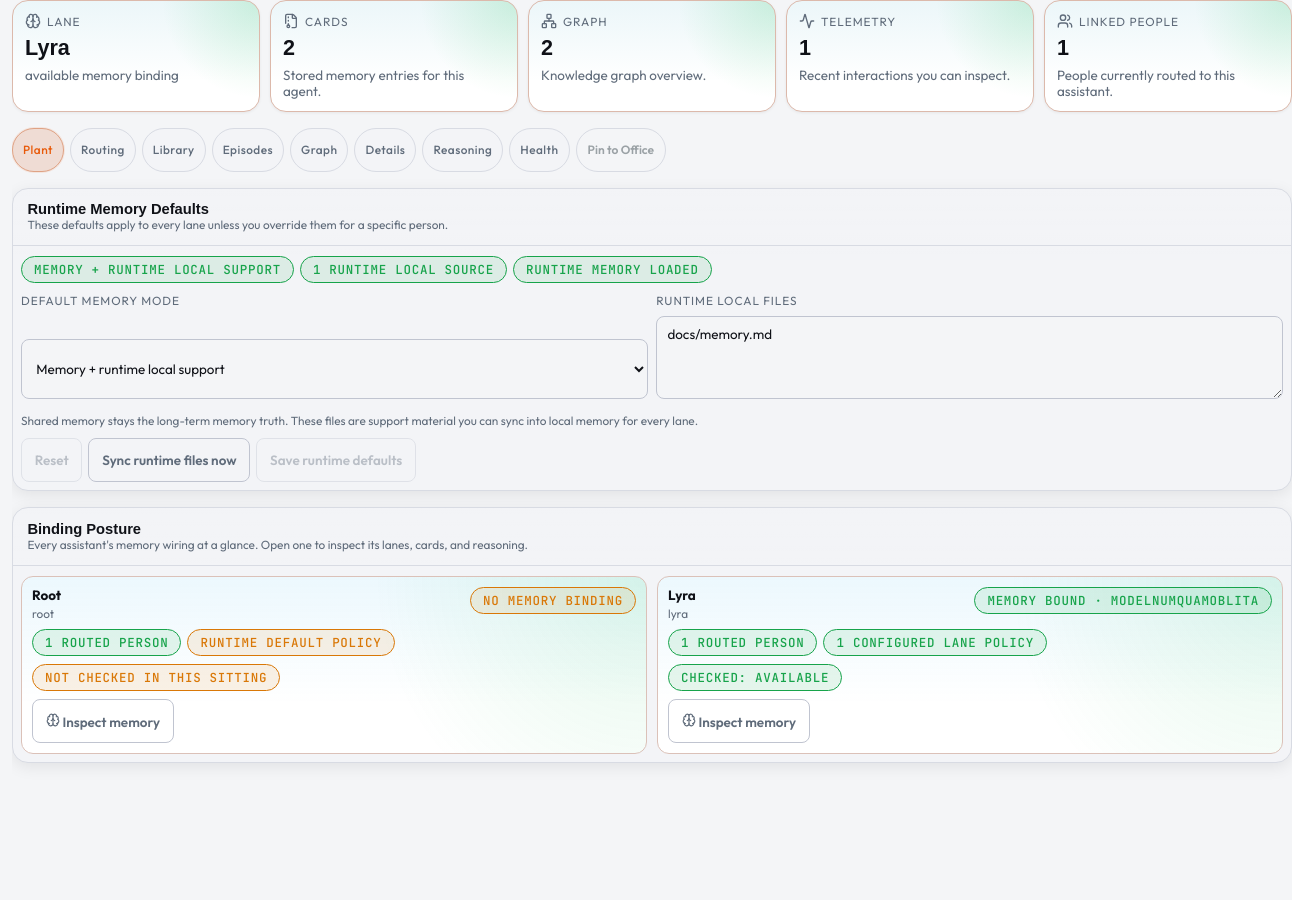
Scenario: MemoryPage surface gating and honest partial states › shows the lane status error inside the lane map without killing lanes
Click the button "Routing": coordinates (103, 150) [70,128,136,172]
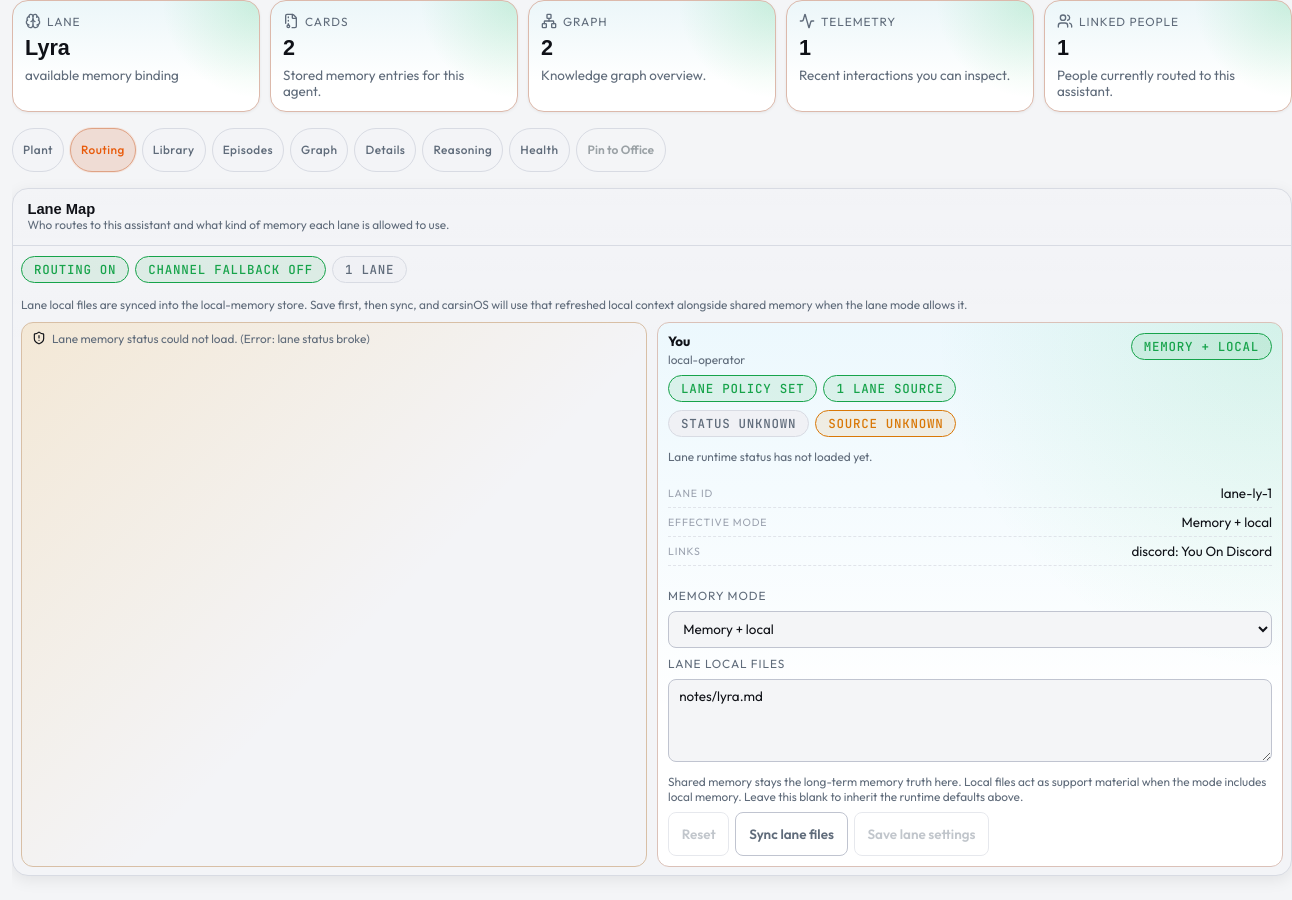
Expected: the text "you" is shown, [799,67,1010,83]
Now the text "Lane memory status could not load." is shown, box [52,331,370,346]
Now the text "lane status broke" is shown, box [52,331,370,346]
